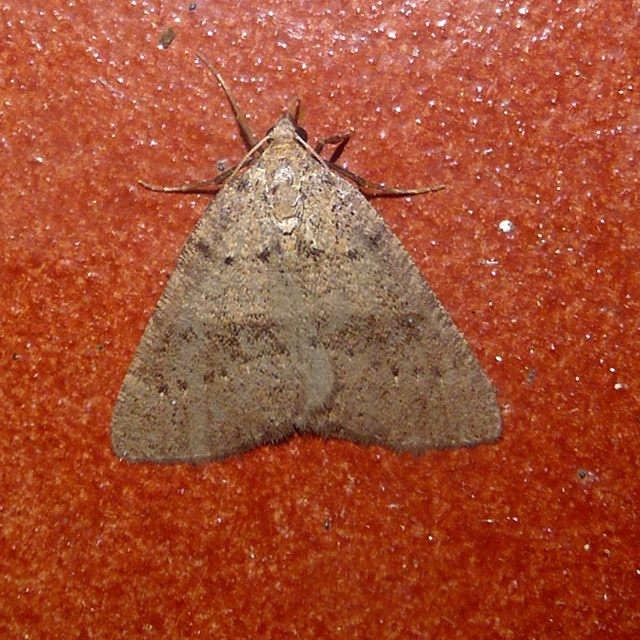Moths and butterflies: (106, 53, 508, 463)
